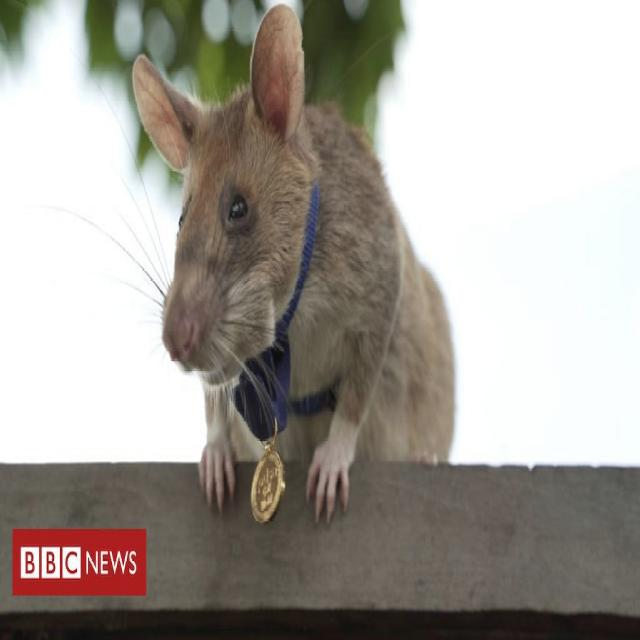rat: (102, 4, 454, 520)
